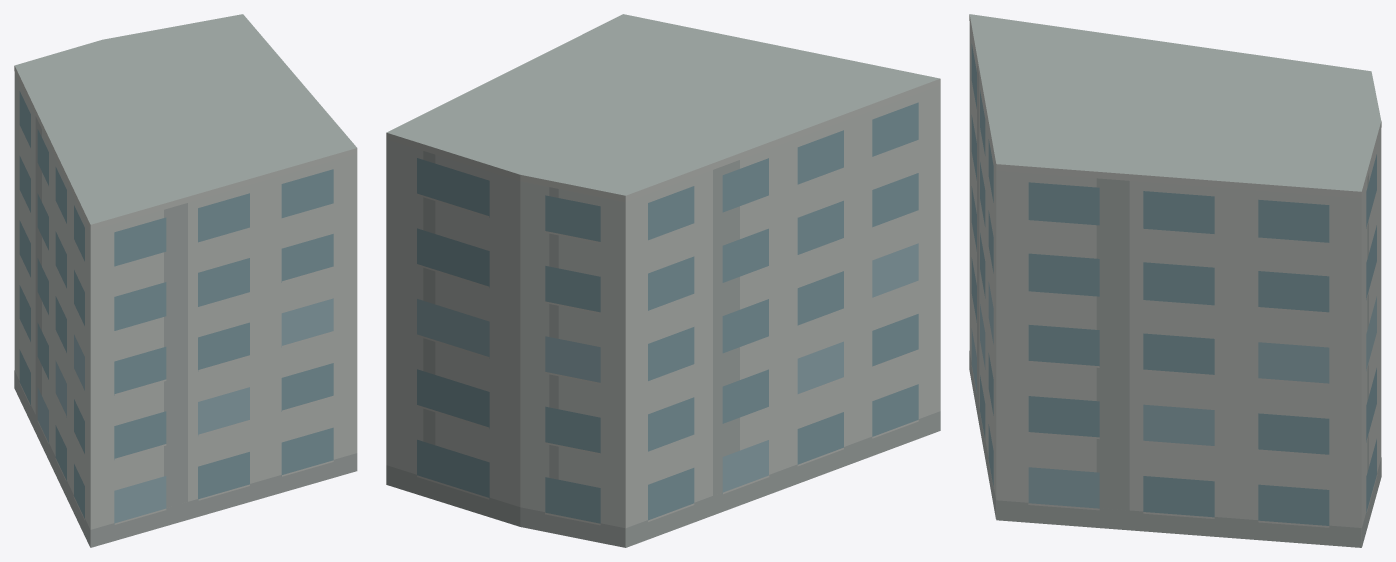
The model's file is survey-upis-32525059.glb.
3 renders of one model, left to right at view 1: azimuth 30°, elevation 25°; view 2: azimuth 150°, elevation 25°; view 3: azimuth 270°, elevation 25°, orthographic. The views are drawn at different scales.
Parts seen in each view (by area): view 1: survey-upis-32525059.tmp; view 2: survey-upis-32525059.tmp; view 3: survey-upis-32525059.tmp.
Boxes of the visible parts, bbox=[...] form: survey-upis-32525059.tmp: bbox=[14, 14, 357, 547]; survey-upis-32525059.tmp: bbox=[386, 14, 940, 547]; survey-upis-32525059.tmp: bbox=[969, 14, 1381, 547].
Size of the model in its own units: 13.93 by 13 by 13.63.
